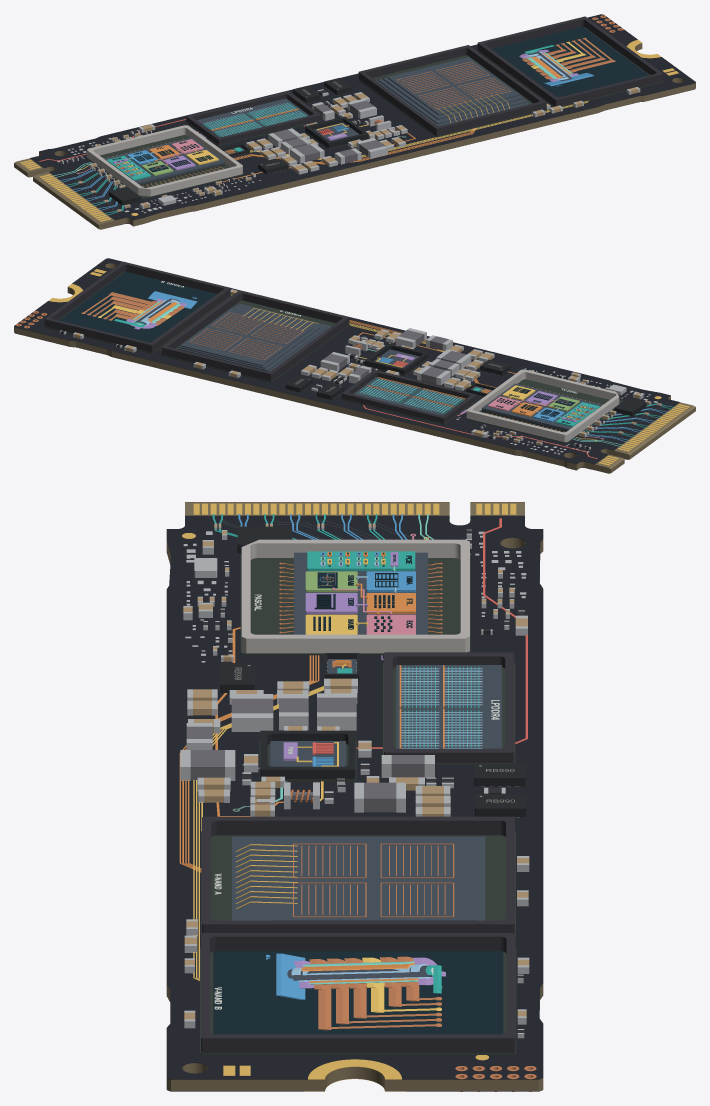
File: 990-pro-2tb.glb
The picture shows the model from 3 angles, top to bottom: view 1: azimuth 30°, elevation 25°; view 2: azimuth 150°, elevation 25°; view 3: azimuth 270°, elevation 25°; orthographic projection. The views are drawn at different scales.
Parts seen in each view (by area): view 1: on_m2_mask_top, on_m2_core, on_b_slice, on_a_die_3, on_U_N1_rim, on_U_N2_rim, on_U_CTRL_rim, on_U_DRAM_rim, on_a_array, on_dram_die, on_dram_wl, on_asic_silicon (+12 smaller); view 2: on_m2_mask_top, on_m2_core, on_a_die_3, on_b_slice, on_U_N1_rim, on_U_N2_rim, on_U_CTRL_rim, on_U_DRAM_rim, on_a_array, on_dram_die, on_dram_wl, on_asic_silicon (+10 smaller); view 3: on_m2_mask_top, on_b_slice, on_a_die_3, on_U_N2_rim, on_U_N1_rim, on_U_CTRL_rim, on_m2_core, on_dram_die, on_U_CTRL_carrier, on_U_DRAM_rim, on_U_N1_carrier, on_dram_bl (+32 smaller).
Part boxes in pixels (x1,y1,x2,y2): on_m2_mask_top: (30, 14, 695, 220); on_m2_core: (14, 43, 695, 229); on_b_slice: (491, 26, 648, 96); on_a_die_3: (387, 57, 519, 114); on_U_N1_rim: (358, 45, 546, 136); on_U_N2_rim: (477, 16, 663, 106); on_U_CTRL_rim: (87, 125, 242, 196); on_U_DRAM_rim: (186, 91, 320, 144); on_a_array: (396, 61, 510, 109); on_dram_die: (197, 98, 309, 136); on_dram_wl: (202, 103, 306, 136); on_asic_silicon: (104, 137, 224, 184); on_m2_mask_top: (14, 258, 679, 464); on_m2_core: (14, 263, 695, 473); on_a_die_3: (180, 308, 312, 365); on_b_slice: (59, 271, 216, 342); on_U_N1_rim: (161, 290, 349, 381); on_U_N2_rim: (44, 261, 230, 352); on_U_CTRL_rim: (466, 369, 619, 442); on_U_DRAM_rim: (342, 369, 476, 423); on_a_array: (189, 312, 303, 360); on_dram_die: (353, 377, 465, 415); on_dram_wl: (358, 378, 463, 413); on_asic_silicon: (482, 383, 602, 430); on_m2_mask_top: (166, 515, 543, 1079); on_b_slice: (213, 951, 503, 1034); on_a_die_3: (271, 841, 475, 920); on_U_N2_rim: (201, 933, 515, 1052); on_U_N1_rim: (202, 816, 514, 932); on_U_CTRL_rim: (241, 539, 469, 653); on_m2_core: (166, 502, 543, 1091); on_dram_die: (396, 665, 501, 748); on_U_CTRL_carrier: (240, 554, 470, 655); on_U_DRAM_rim: (384, 652, 514, 762); on_U_N1_carrier: (201, 831, 515, 940); on_dram_bl: (401, 668, 482, 748).
Size of the model in its own units: 0.08 by 0.00194 by 0.022.
